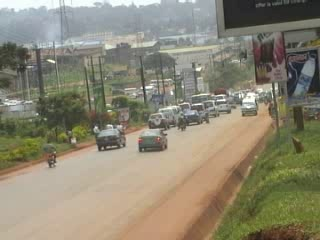Car: (94, 126, 127, 153), (137, 127, 169, 153), (188, 100, 210, 124), (145, 111, 171, 130), (180, 108, 203, 127), (213, 96, 232, 115), (203, 98, 221, 118), (228, 96, 237, 110)
Motorcycle: (42, 137, 59, 168), (175, 109, 188, 132), (115, 119, 128, 133), (261, 93, 270, 106)
